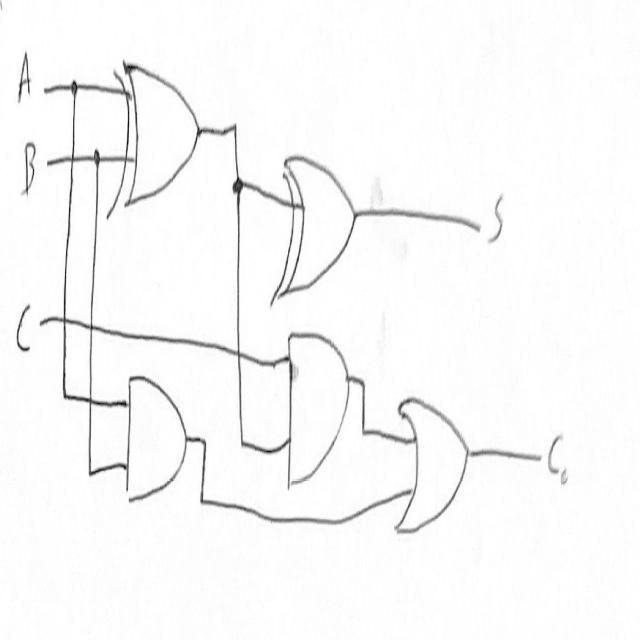AND: (279, 328, 353, 499), (120, 356, 191, 525)
OR: (392, 377, 476, 557)
XOR: (103, 34, 208, 233), (269, 140, 361, 316)
